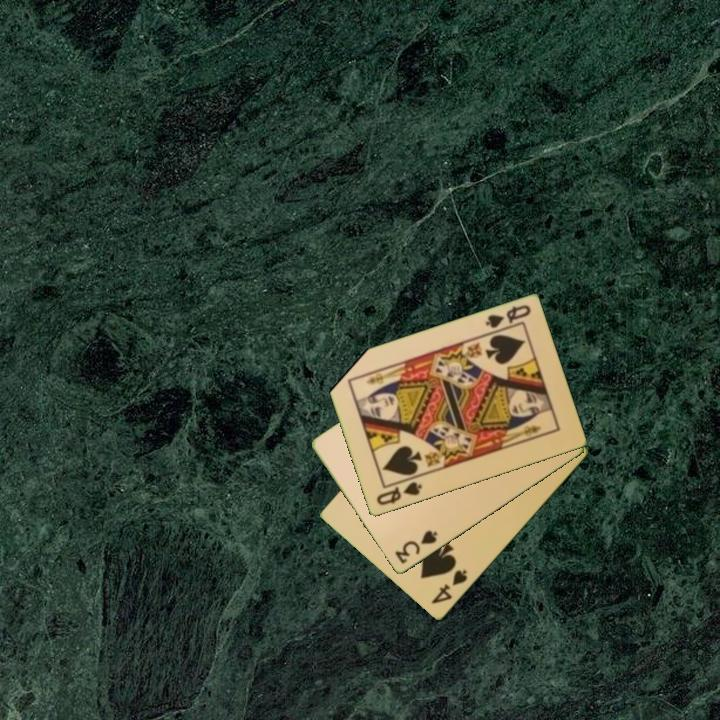3s: (391, 527, 440, 567)
4s: (428, 566, 470, 607)
Qs: (482, 302, 534, 336), (373, 478, 425, 508)
